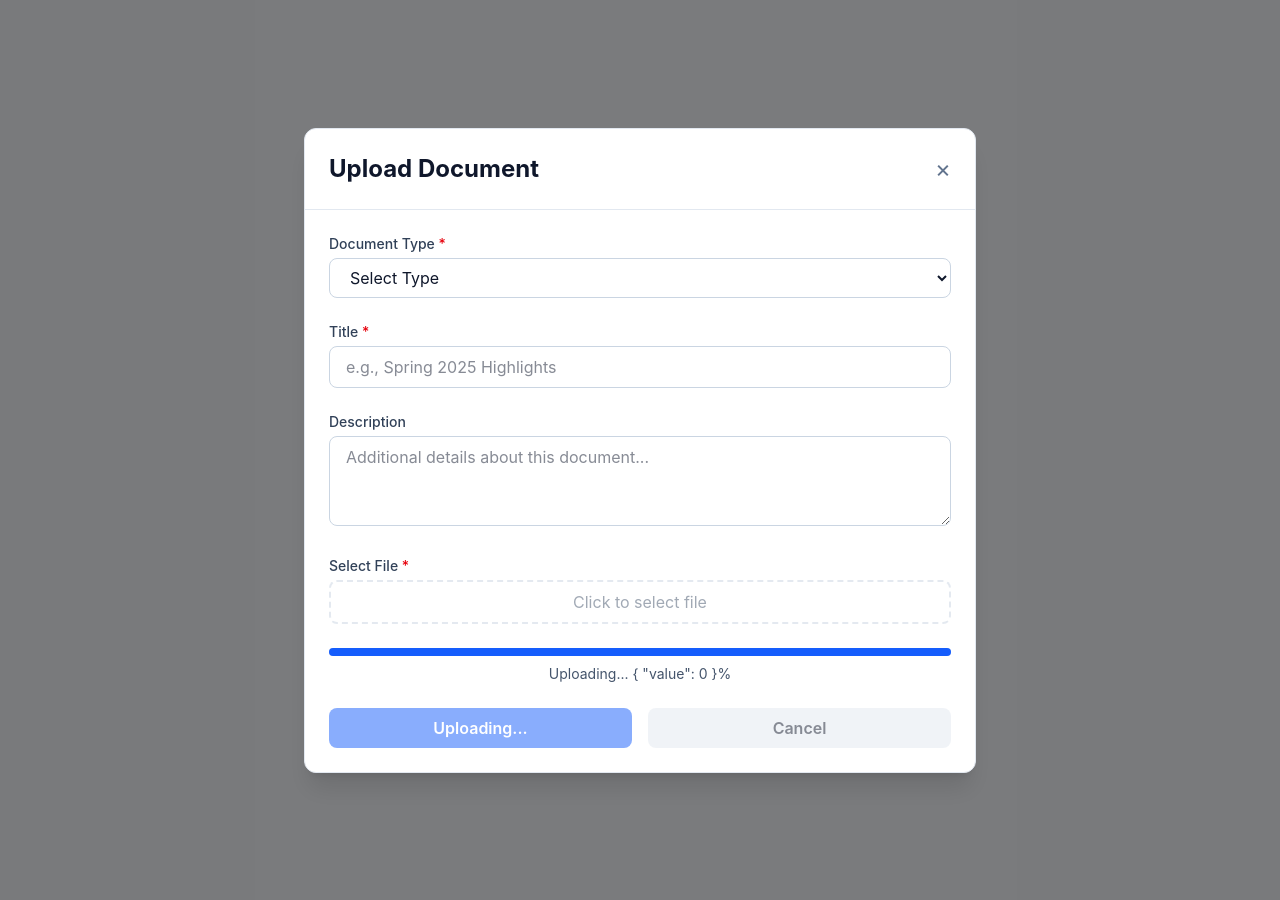
Test: DocumentUploadModal › enables file picker when document type is selected
Select "Resume" in the dropdown labelled "Document Type *" at (640, 278), box [329, 258, 951, 298]
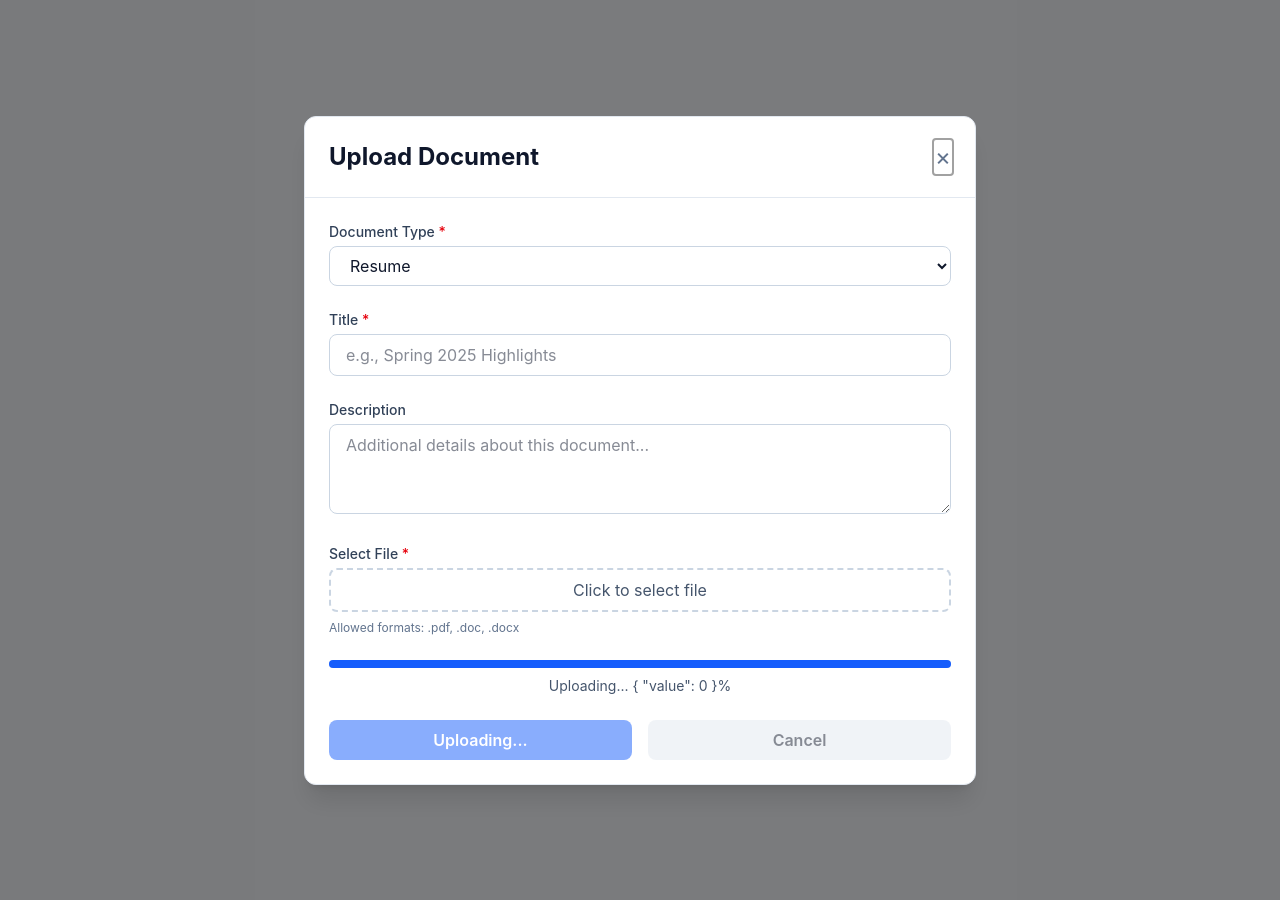
Check: the button "Click to select file" is enabled, box [329, 568, 951, 612]
